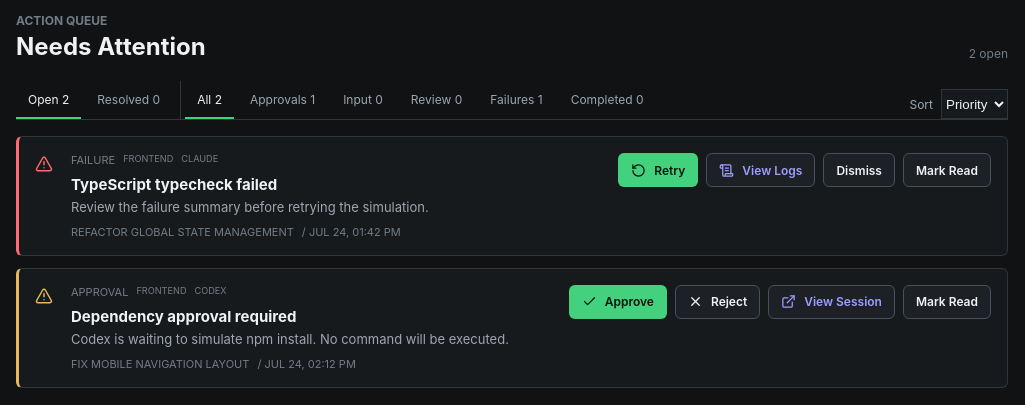
Test: AttentionPage › approves pending work and dismisses a failure without rewriting the failed session status
Click the button with aria-label "Approve Dependency approval required". click: (618, 302)
box: x1=569 y1=285 x2=667 y2=319
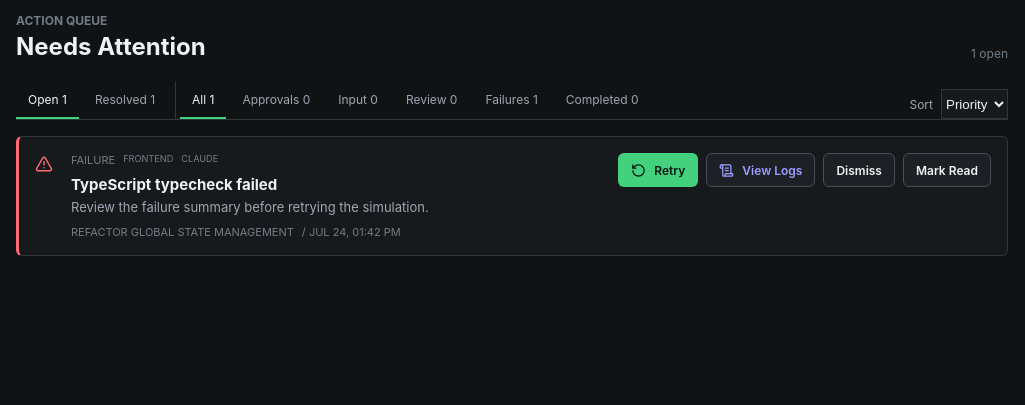
Click the button with aria-label "Dismiss TypeScript typecheck failed". click: (859, 170)
box: x1=823 y1=153 x2=895 y2=187
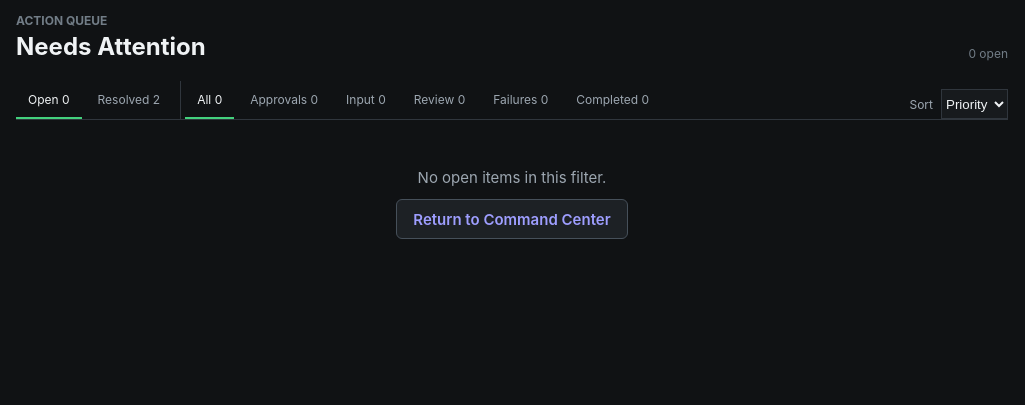
Now the heading "TypeScript typecheck failed" is gone
